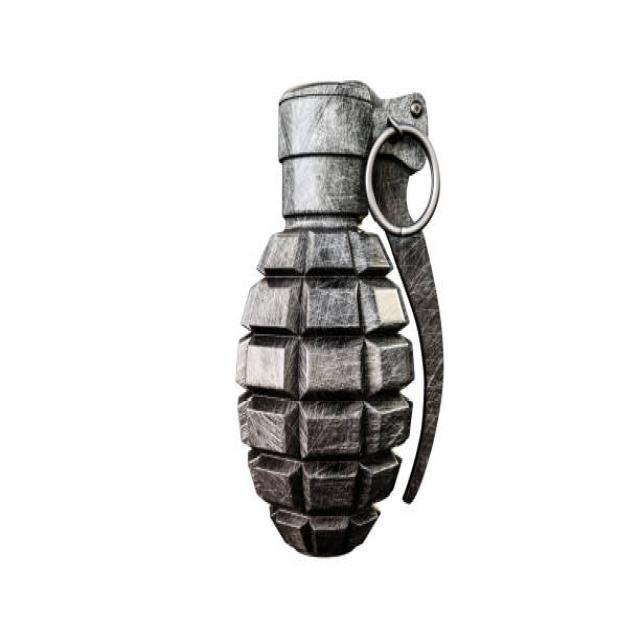grenade: (231, 74, 451, 567)
